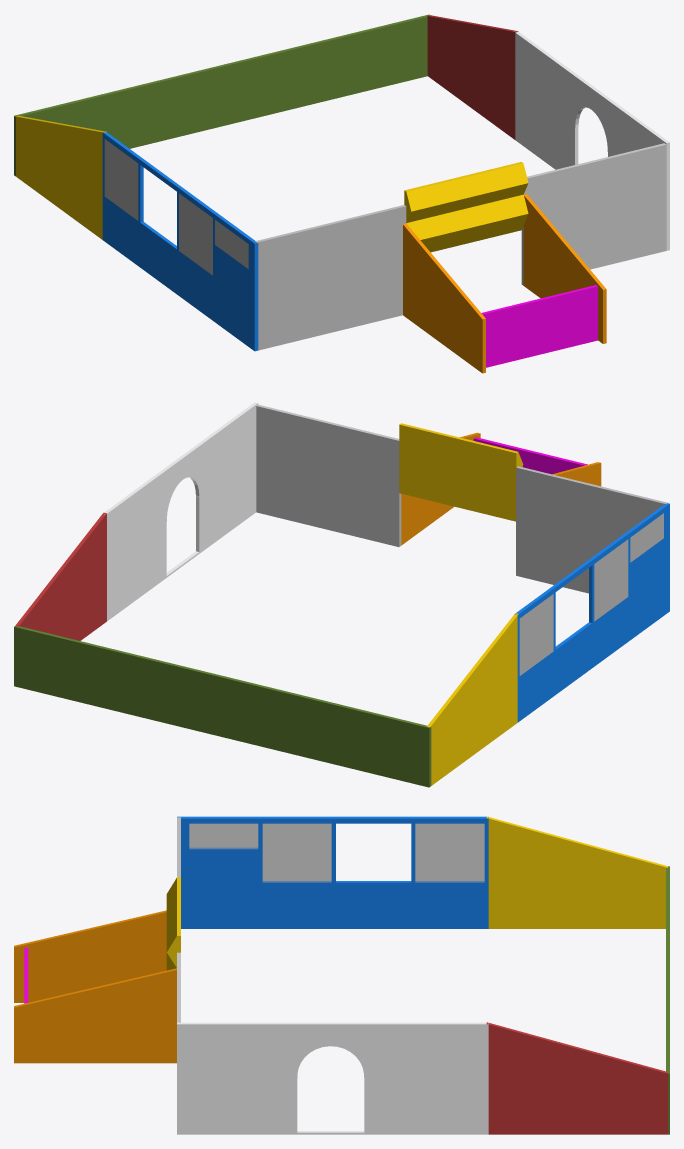
Rendered from Floor1-2.fbx.
3 renders of one model, top to bottom at view 1: azimuth 30°, elevation 25°; view 2: azimuth 150°, elevation 25°; view 3: azimuth 270°, elevation 25°, orthographic. The views are drawn at different scales.
Visible parts, largest first — view 1: Material #2142144597 Mesh (1), Window Mesh (1), yellow Mesh (1) (×2), statue 1 Mesh (1), orange Mesh (1), blue Mesh (1), green Mesh (1), red Mesh (1), pink Mesh (1), Floor1Wall5 Mesh (1); view 2: Material #2142144597 Mesh (1), yellow Mesh (1) (×2), statue 1 Mesh (1), green Mesh (1), Window Mesh (1), blue Mesh (1), red Mesh (1), Floor1Wall5 Mesh (1), orange Mesh (1), pink Mesh (1); view 3: green Mesh (1), orange Mesh (1), blue Mesh (1), yellow Mesh (1) (×2), red Mesh (1), transparency Mesh (1), Floor1Wall5 Mesh (1), Material #2142144597 Mesh (1).
Boxes of the visible parts, x1,y1,x2,y2 form: Material #2142144597 Mesh (1): (14,14,429,176); Window Mesh (1): (255,205,406,350); yellow Mesh (1) (×2): (15,115,528,252); statue 1 Mesh (1): (521,143,666,285); orange Mesh (1): (403,194,606,373); blue Mesh (1): (102,131,258,351); green Mesh (1): (514,31,669,250); red Mesh (1): (427,15,518,139); pink Mesh (1): (481,285,597,367); Floor1Wall5 Mesh (1): (104,139,248,275); Material #2142144597 Mesh (1): (14,626,431,787); yellow Mesh (1) (×2): (399,423,523,785); statue 1 Mesh (1): (256,404,401,546); green Mesh (1): (104,402,258,621); Window Mesh (1): (516,466,667,593); blue Mesh (1): (514,503,669,722); red Mesh (1): (15,512,106,640); Floor1Wall5 Mesh (1): (519,513,663,675); orange Mesh (1): (401,432,601,545); pink Mesh (1): (473,437,587,474); green Mesh (1): (177,1022,488,1134); orange Mesh (1): (14,910,176,1063); blue Mesh (1): (177,816,488,928); yellow Mesh (1) (×2): (166,816,667,970); red Mesh (1): (486,1022,667,1134); transparency Mesh (1): (189,823,484,882); Floor1Wall5 Mesh (1): (189,823,484,880); Material #2142144597 Mesh (1): (666,866,669,1134).
Bounding box in the file's own units: 60.25 × 17 × 80.5.
